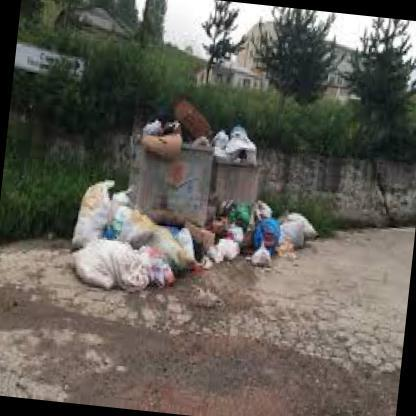Garbage: (142, 108, 270, 165), (69, 238, 165, 306), (64, 172, 113, 246), (146, 218, 196, 278), (214, 121, 264, 162), (108, 185, 138, 240), (282, 209, 315, 250), (224, 124, 257, 162), (253, 209, 278, 246), (211, 228, 240, 258), (254, 247, 274, 274), (142, 119, 164, 135)
